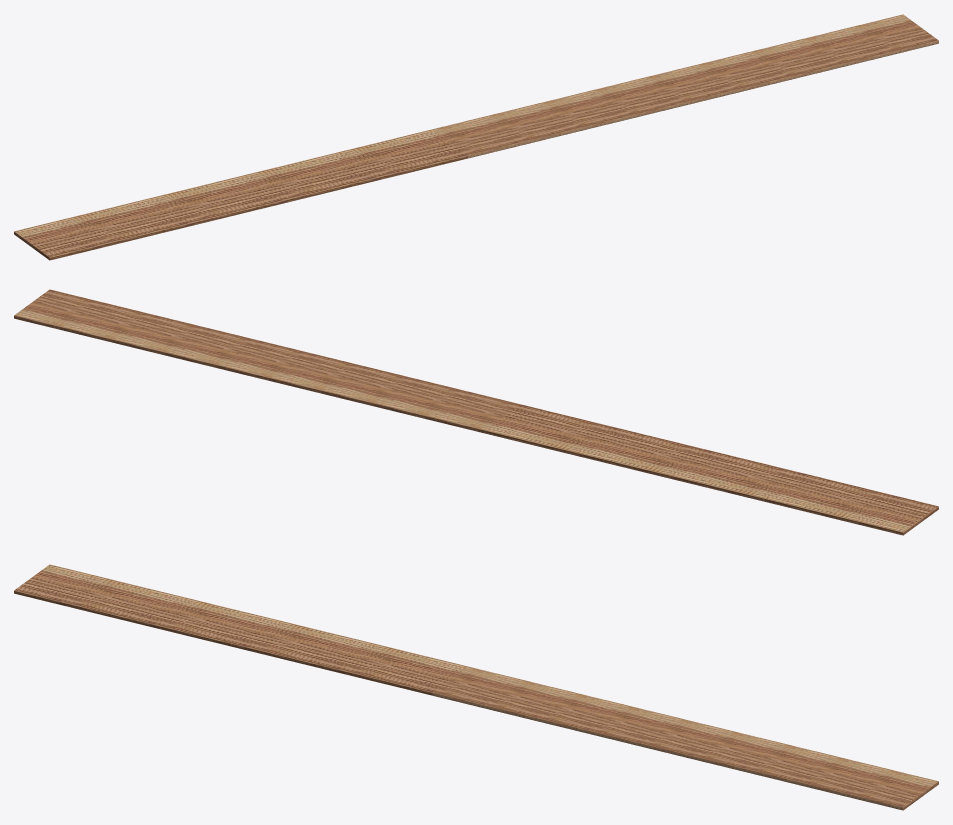
The model's file is top_plate.fbx.
3 views of the same model, one above another, from view 1: azimuth 30°, elevation 25°; view 2: azimuth 150°, elevation 25°; view 3: azimuth 330°, elevation 25° (orthographic).
Visible parts, largest first — view 1: polySurface3; view 2: polySurface3; view 3: polySurface3.
Part boxes in pixels (x1=…): polySurface3: x1=14, y1=14, x2=938, y2=260; polySurface3: x1=14, y1=289, x2=938, y2=535; polySurface3: x1=14, y1=564, x2=938, y2=810.
Size of the model in its own units: 543 by 37.9 by 1.9.
